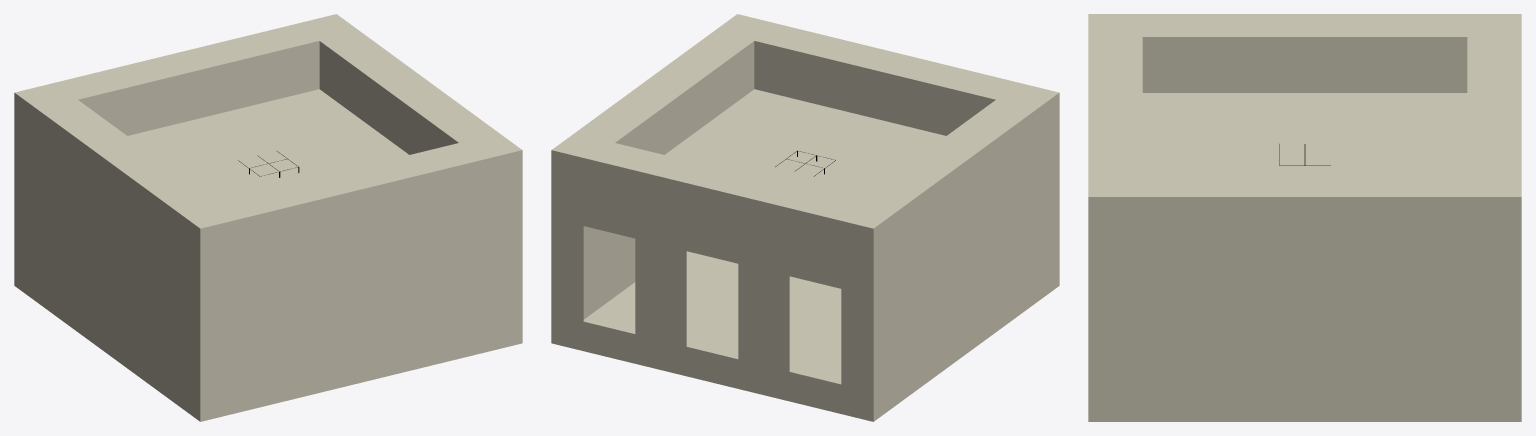
File: Building 67.FBX
3 views of the same model, side by side, from view 1: azimuth 30°, elevation 25°; view 2: azimuth 150°, elevation 25°; view 3: azimuth 270°, elevation 25° (orthographic). The views are drawn at different scales.
Parts seen in each view (by area): view 1: Group60; view 2: Group60; view 3: Group60.
Boxes of the visible parts, box(x1,y1,x2,y2) form: Group60: box(14, 14, 522, 421); Group60: box(551, 14, 1059, 421); Group60: box(1088, 14, 1521, 421).
Size of the model in its own units: 29.53 by 16.93 by 29.53.
